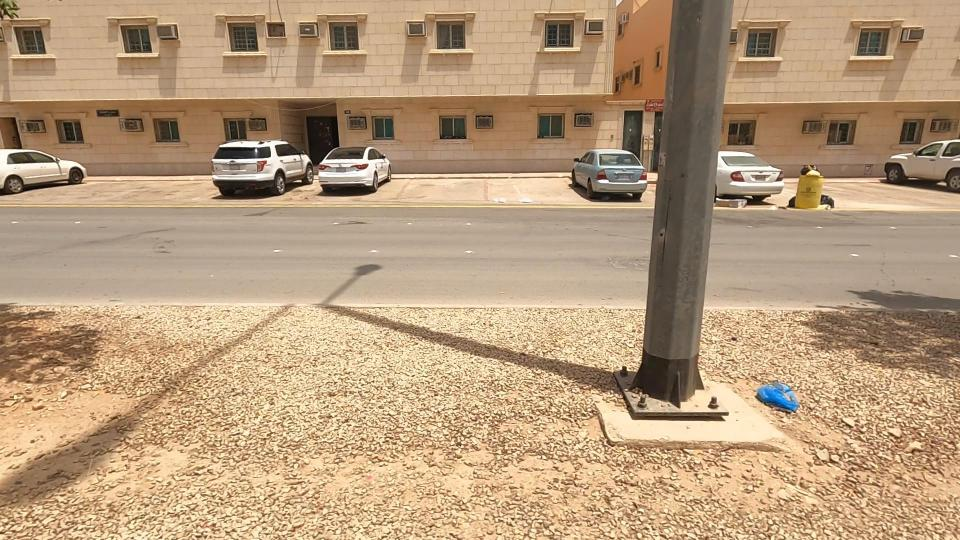CLUTTER_SIDEWALK: (0, 196, 720, 540)
GARBAGE: (705, 333, 831, 451)
